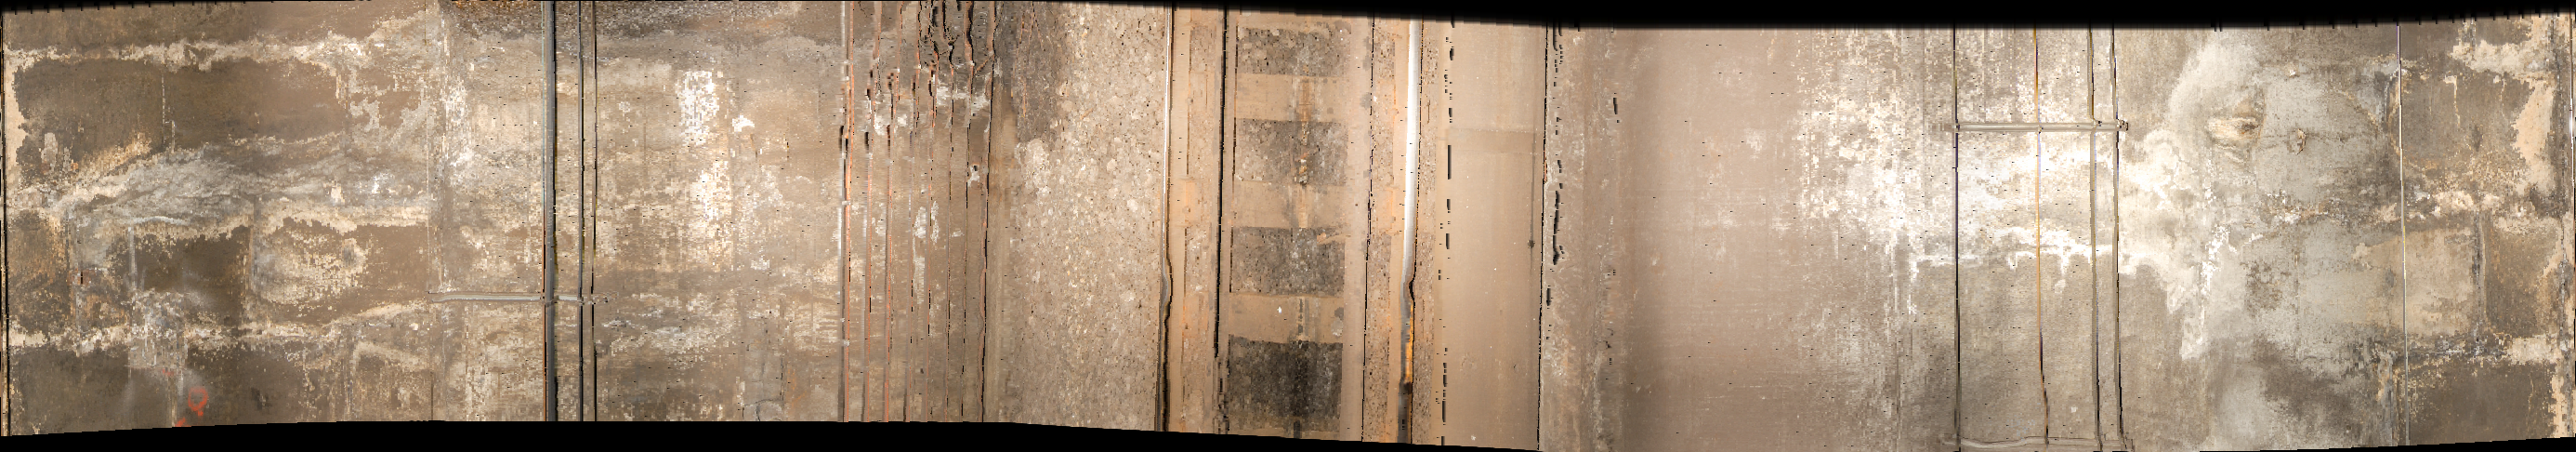pipes: (1940, 36, 2139, 452), (835, 5, 1005, 452), (527, 5, 601, 452)
tracks: (1158, 8, 1460, 452)
